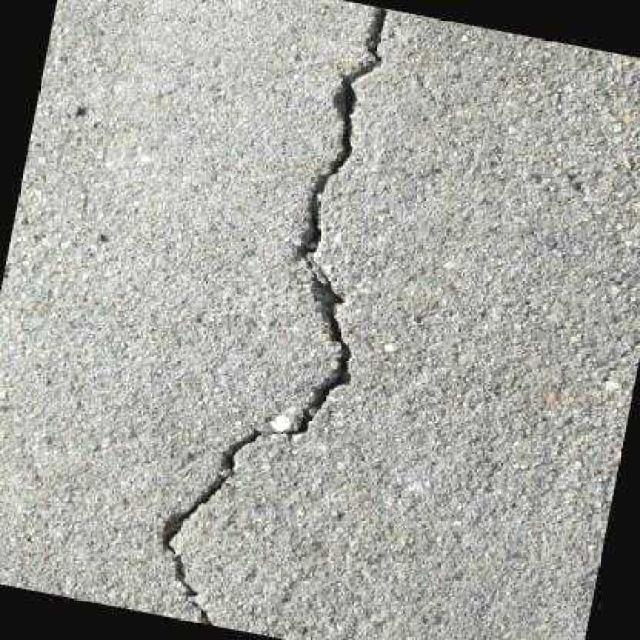D00: (156, 3, 391, 626)
